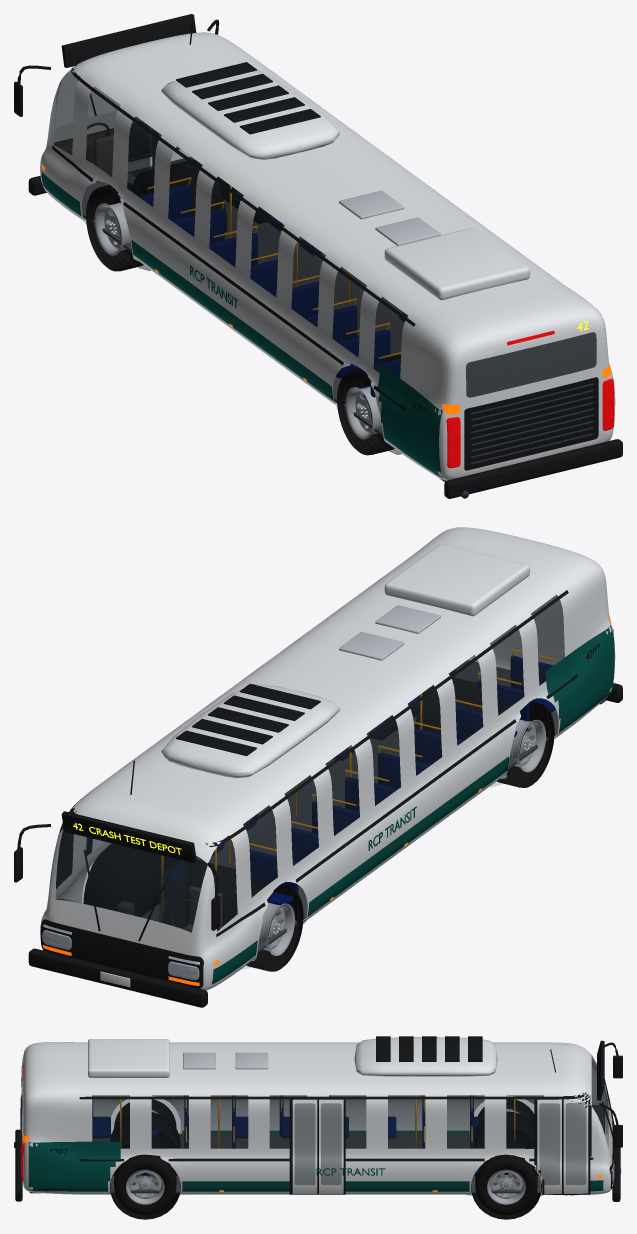
Rendered from CityBus.fbx.
The picture shows the model from 3 angles, top to bottom: view 1: azimuth 30°, elevation 25°; view 2: azimuth 150°, elevation 25°; view 3: azimuth 270°, elevation 25°; orthographic projection. The views are drawn at different scales.
Parts seen in each view (by area): view 1: CityBus_Body, CityBus_Trim2, CityBus_Glass, CityBus_Trim, CityBus_Wheel1, CityBus_Wheel3, CityBus_Lights; view 2: CityBus_Body, CityBus_Trim2, CityBus_Glass, CityBus_Trim, CityBus_Wheel3, CityBus_Wheel1, CityBus_Lights; view 3: CityBus_Body, CityBus_Glass, CityBus_Trim2, CityBus_Wheel4, CityBus_Wheel2, CityBus_Trim, CityBus_Wheel3, CityBus_Wheel1, CityBus_Lights.
Part boxes in pixels (<box>): CityBus_Body: <box>40,32,615,480</box>; CityBus_Trim2: <box>14,14,622,498</box>; CityBus_Glass: <box>54,72,596,397</box>; CityBus_Trim: <box>190,265,598,470</box>; CityBus_Wheel1: <box>86,182,143,271</box>; CityBus_Wheel3: <box>337,368,394,455</box>; CityBus_Lights: <box>41,164,614,468</box>; CityBus_Body: <box>40,527,615,990</box>; CityBus_Trim2: <box>14,590,622,1007</box>; CityBus_Glass: <box>56,595,564,932</box>; CityBus_Trim: <box>41,643,599,988</box>; CityBus_Wheel3: <box>497,700,554,787</box>; CityBus_Wheel1: <box>246,882,303,971</box>; CityBus_Lights: <box>42,528,613,985</box>; CityBus_Body: <box>21,1037,612,1196</box>; CityBus_Glass: <box>21,1055,608,1184</box>; CityBus_Trim2: <box>14,1036,622,1219</box>; CityBus_Wheel4: <box>114,1156,176,1214</box>; CityBus_Wheel2: <box>475,1156,537,1214</box>; CityBus_Trim: <box>20,1092,613,1194</box>; CityBus_Wheel3: <box>114,1099,176,1128</box>; CityBus_Wheel1: <box>478,1099,534,1122</box>; CityBus_Lights: <box>21,1064,614,1191</box>.
Size of the model in its own units: 10.15 by 10.11 by 37.1.
